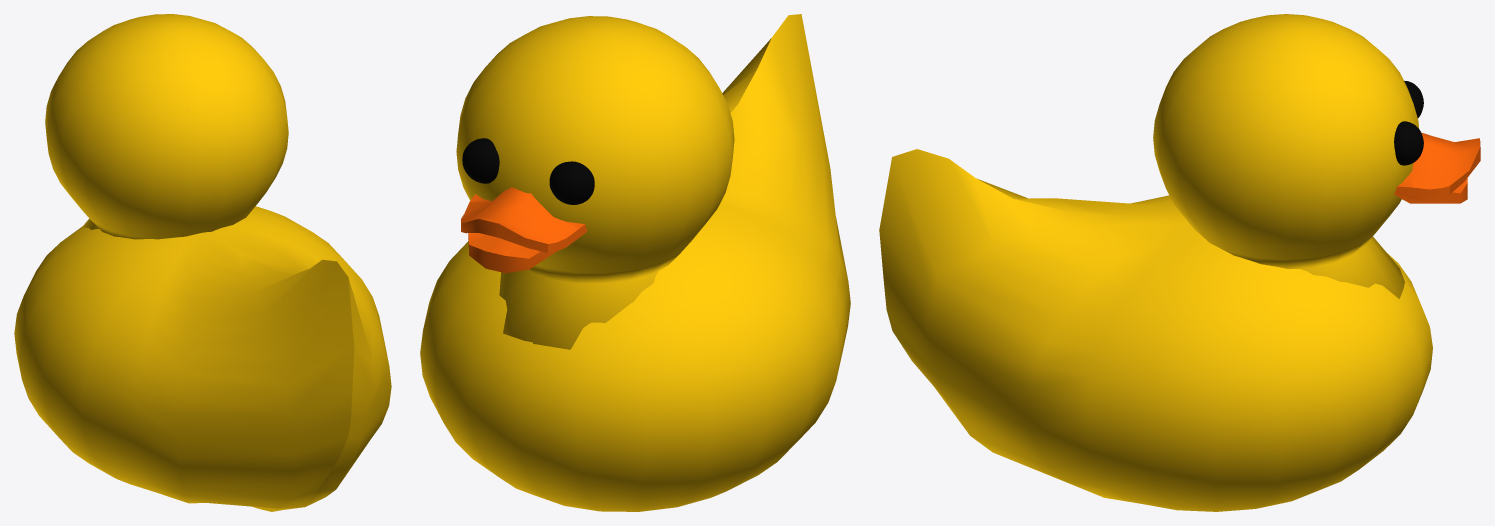
File: duck.glb
3 views of the same model, side by side, from view 1: azimuth 30°, elevation 25°; view 2: azimuth 150°, elevation 25°; view 3: azimuth 270°, elevation 25° (orthographic). The views are drawn at different scales.
Visible parts, largest first — view 1: pSphere2, pSphere1; view 2: pSphere2, pSphere1, pCube1, pCube2, pSphere3, pSphere4; view 3: pSphere2, pSphere1, pCube1, pSphere4, pCube2.
Boxes of the visible parts, x1,y1,x2,y2 form: pSphere2: [14, 206, 391, 511]; pSphere1: [45, 14, 288, 239]; pSphere2: [420, 14, 850, 511]; pSphere1: [456, 16, 734, 349]; pCube1: [461, 187, 587, 253]; pCube2: [468, 233, 555, 273]; pSphere3: [549, 161, 594, 204]; pSphere4: [462, 138, 499, 183]; pSphere2: [879, 149, 1432, 511]; pSphere1: [1153, 14, 1419, 298]; pCube1: [1394, 132, 1480, 198]; pSphere4: [1394, 121, 1423, 165]; pCube2: [1396, 178, 1467, 203].
Bounding box in the file's own units: 1.2 × 1.54 × 1.82.
Materials: 1 (1 with a texture image).
